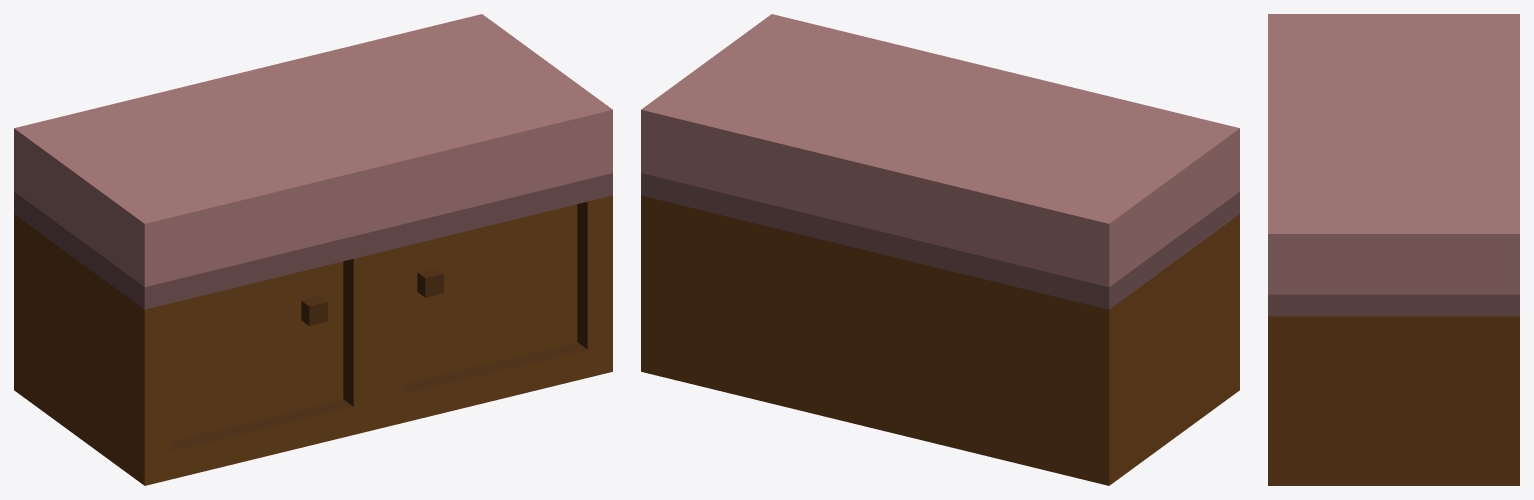
File: Cabinet_floor.fbx
The picture shows the model from 3 angles, left to right: view 1: azimuth 30°, elevation 25°; view 2: azimuth 150°, elevation 25°; view 3: azimuth 270°, elevation 25°; orthographic projection. The views are drawn at different scales.
Visible parts, largest first — view 1: polySurface43; view 2: polySurface43; view 3: polySurface43.
Part boxes in pixels (x1,y1,x2,y2): polySurface43: (14,14,612,485); polySurface43: (641,14,1239,485); polySurface43: (1268,14,1519,485).
Bounding box in the file's own units: 288 × 154 × 139.
